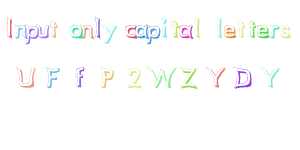2: (125, 66, 144, 90)
D: (232, 65, 252, 89)
F: (43, 66, 61, 90)
I: (3, 14, 18, 41)
P: (99, 65, 115, 90)
U: (15, 65, 37, 88)
W: (147, 66, 177, 90)
Y: (205, 66, 225, 89), (259, 65, 279, 88)
Z: (180, 66, 199, 90)
a: (179, 23, 194, 40), (134, 23, 149, 39)
c: (123, 23, 137, 39)
e: (257, 23, 269, 41), (223, 24, 237, 39)
f: (73, 65, 86, 90)
i: (160, 16, 169, 38)
l: (93, 15, 103, 40), (214, 15, 224, 39), (194, 15, 203, 39)
n: (80, 21, 94, 40), (13, 22, 27, 40)
o: (69, 23, 83, 40)
p: (24, 22, 40, 45), (147, 23, 160, 45)
r: (269, 22, 280, 40)
s: (280, 23, 292, 39)
t: (49, 19, 60, 39), (247, 19, 257, 39), (170, 20, 180, 39), (237, 18, 246, 39)
u: (36, 22, 51, 39)
y: (102, 24, 117, 44)
